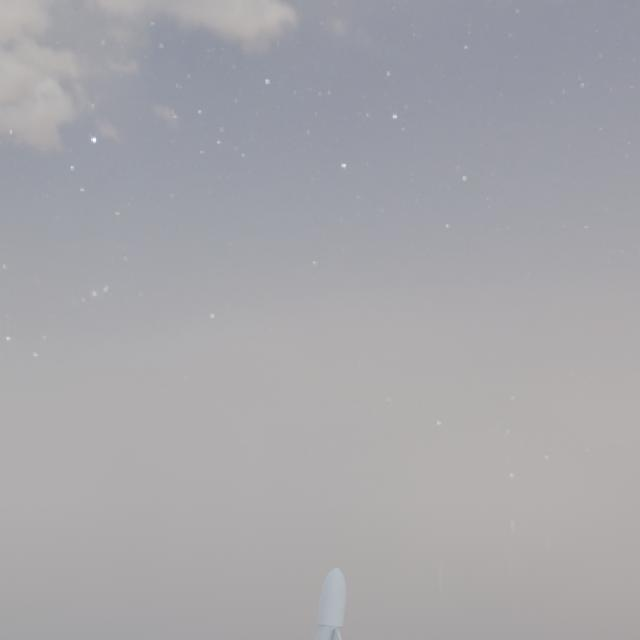Airaplan: (242, 567, 394, 640)
